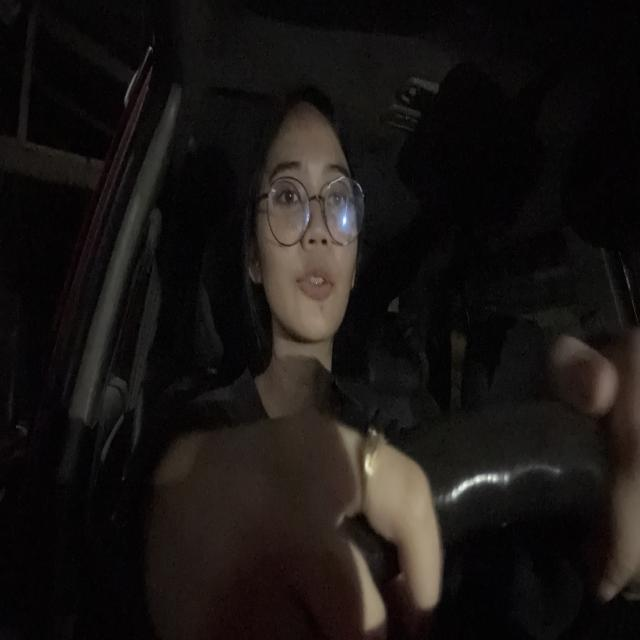open: (267, 159, 309, 221), (318, 161, 356, 225)
